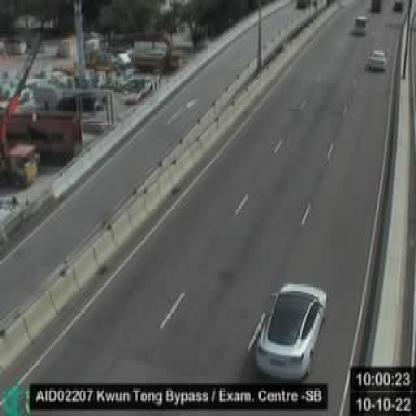Car: (255, 281, 327, 381), (367, 47, 386, 70), (353, 14, 368, 33), (394, 0, 405, 12), (371, 1, 382, 12)
